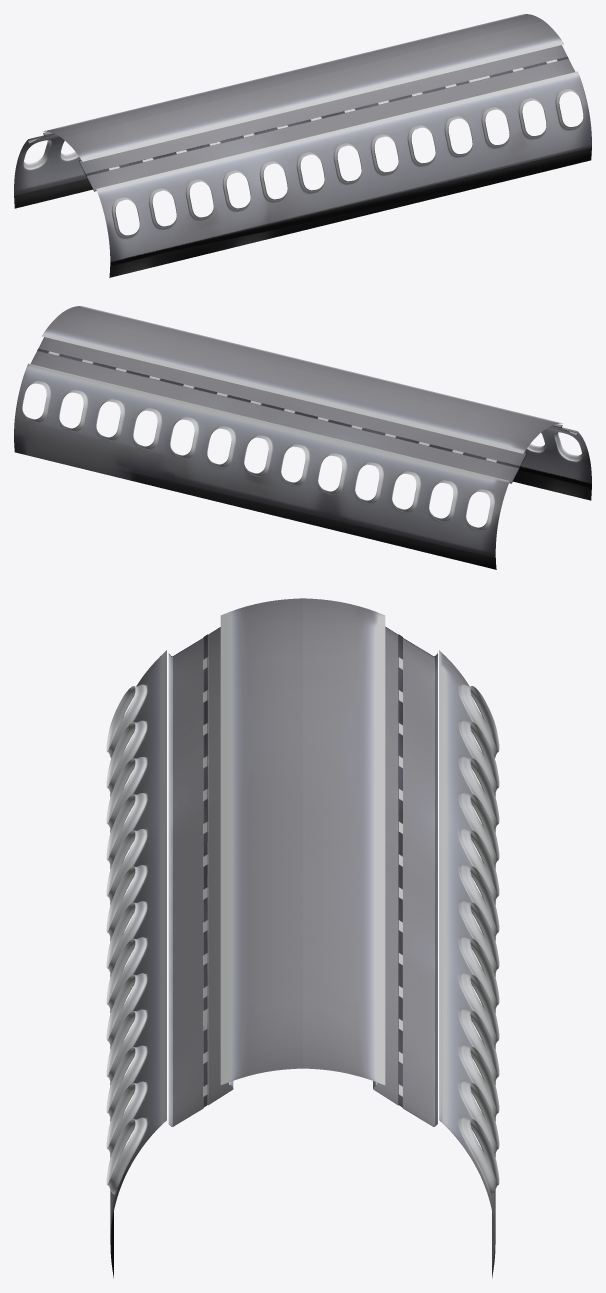
Rendered from MainFuselageWitMaterials.glb.
3 renders of one model, top to bottom at view 1: azimuth 30°, elevation 25°; view 2: azimuth 150°, elevation 25°; view 3: azimuth 270°, elevation 25°, orthographic. The views are drawn at different scales.
Visible parts, largest first — view 1: MainFuselage; view 2: MainFuselage; view 3: MainFuselage.
Part boxes in pixels (x1,y1,x2,y2): MainFuselage: [14, 14, 591, 277]; MainFuselage: [14, 306, 591, 569]; MainFuselage: [106, 598, 499, 1278].
Bounding box in the file's own units: 7.56 × 1.57 × 2.67.
1 material, 1 textured.
